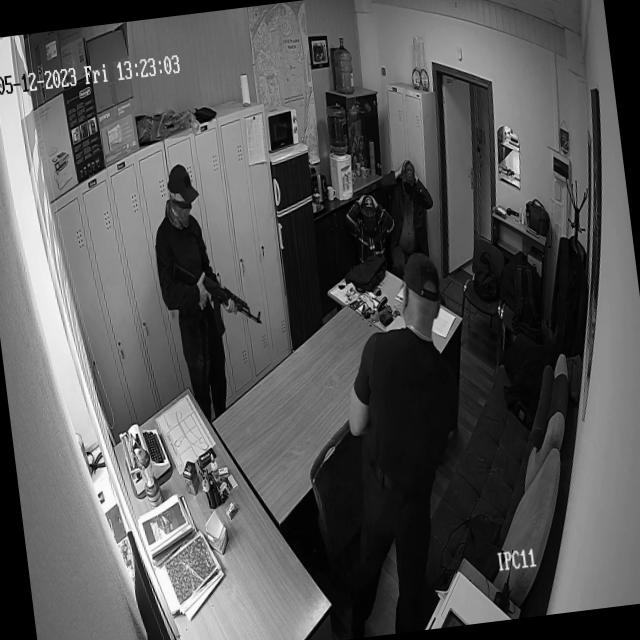gun: (196, 256, 268, 340)
person: (347, 259, 482, 632), (378, 145, 429, 243), (343, 183, 384, 250)
person with a gun: (139, 157, 236, 409)
